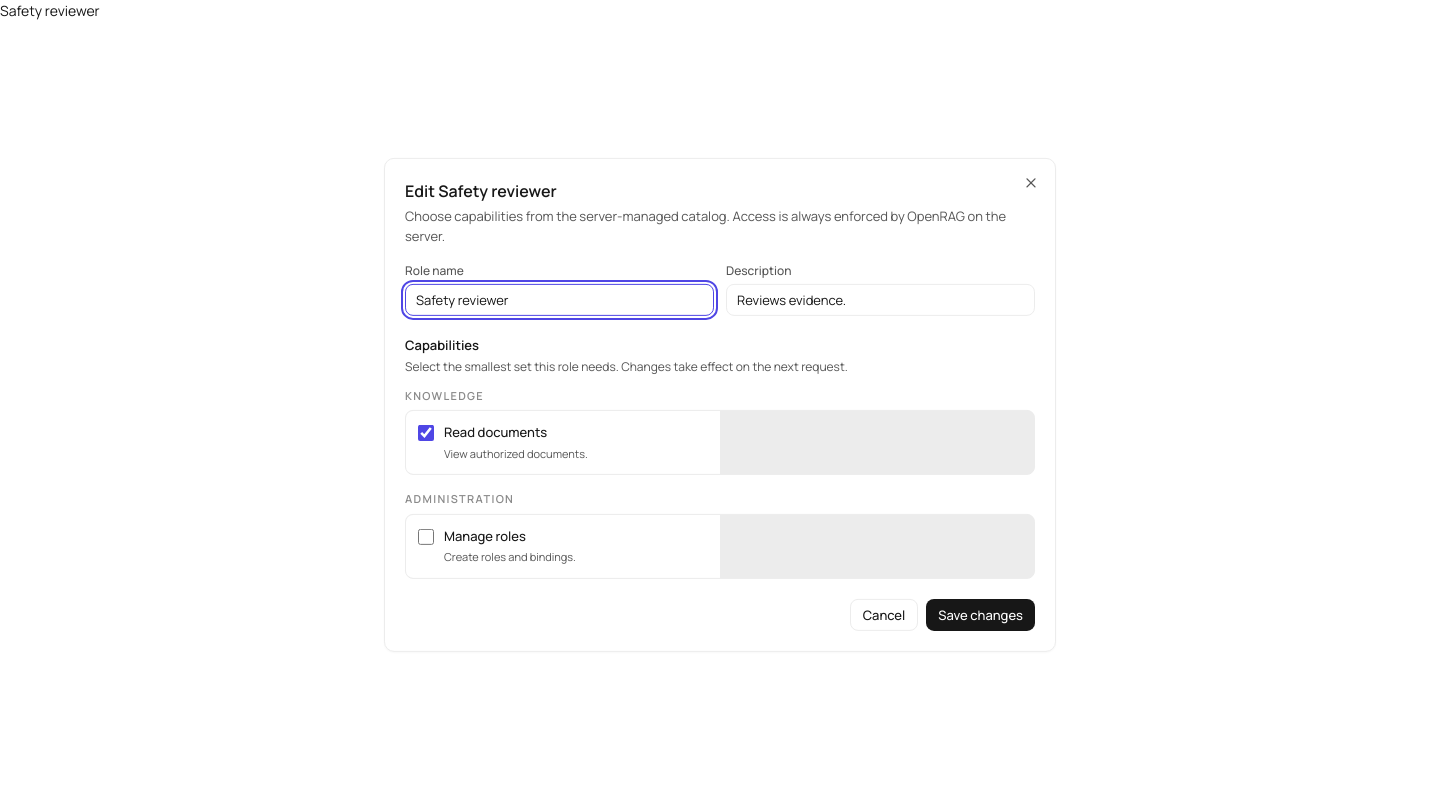
Test: refreshes embedded user role chips after a successful role patch
Expected: the text "Safety reviewer" is shown, [0,1,100,20]
Expected: the checkbox labelled "Read documents View authorized documents." is shown, [418,425,434,441]
Replace the text in the field labelled "Role name" with "Senior safety reviewer" at (560, 300), box [405,284,714,316]
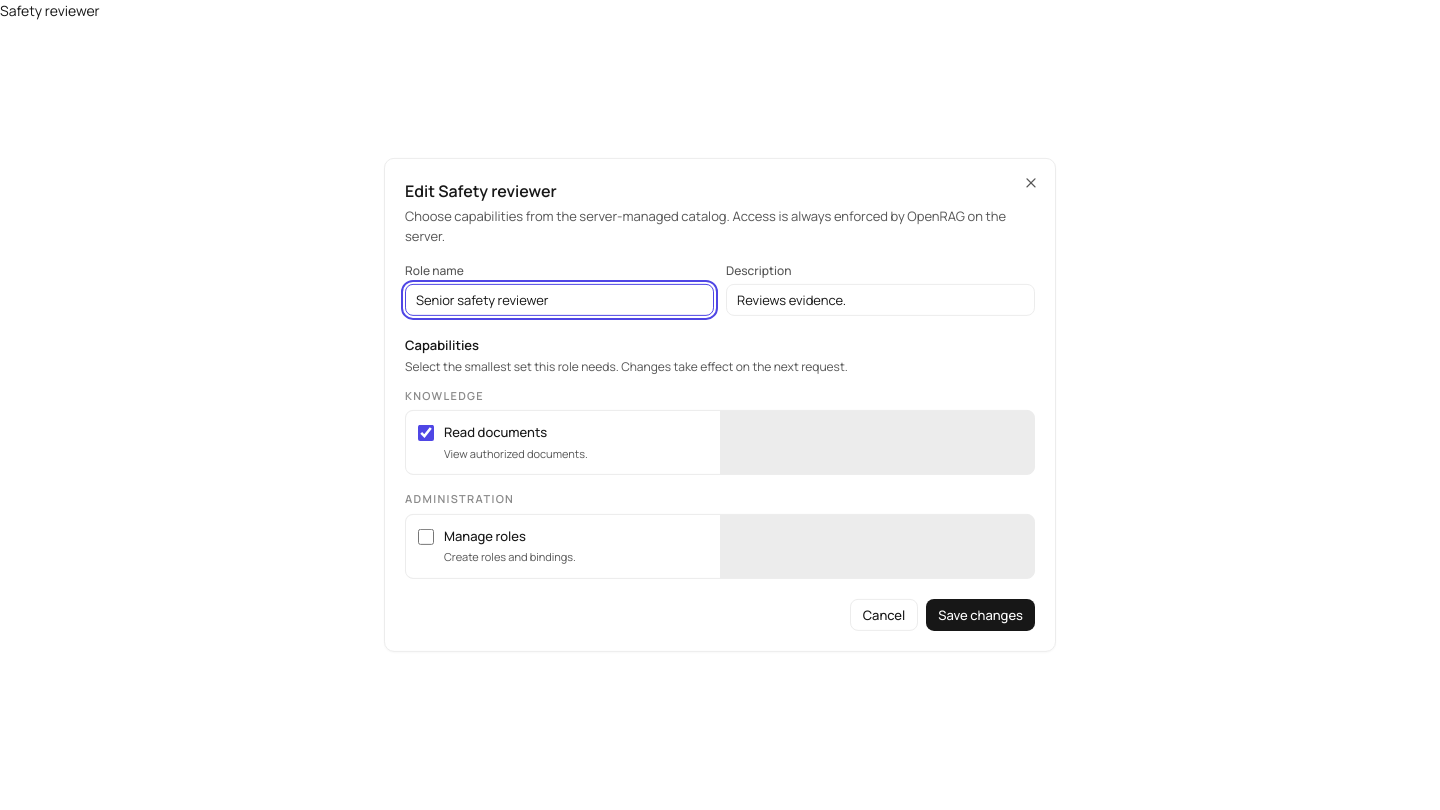
Click the button "Save changes" at (981, 615), box [926,599,1035,631]
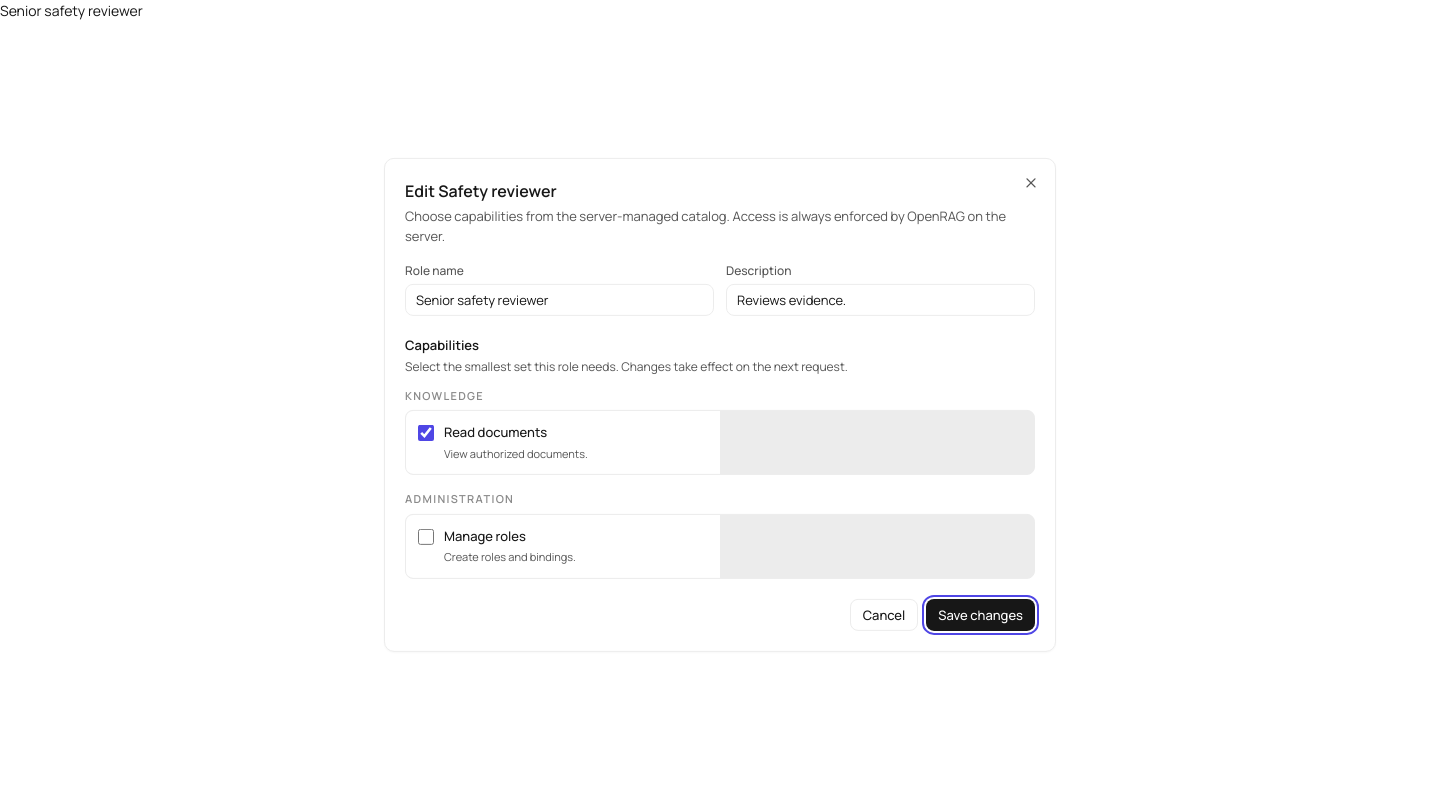
Result: the text "Senior safety reviewer" is shown at [0,1,143,20]
